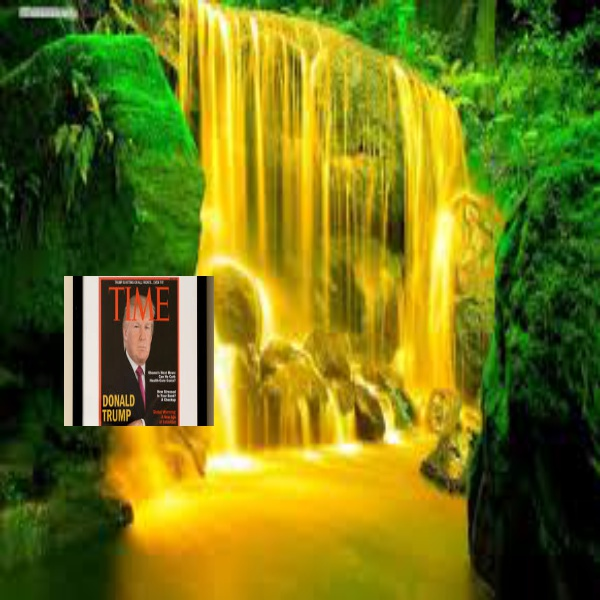time_cover: (86, 256, 189, 431)
